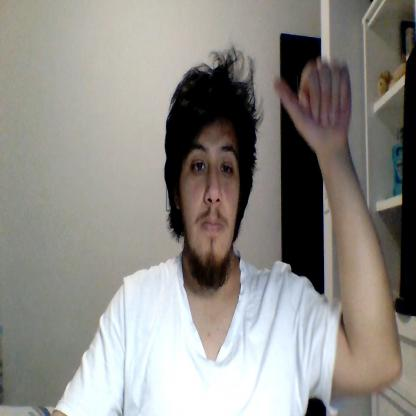A: (273, 57, 352, 147)
